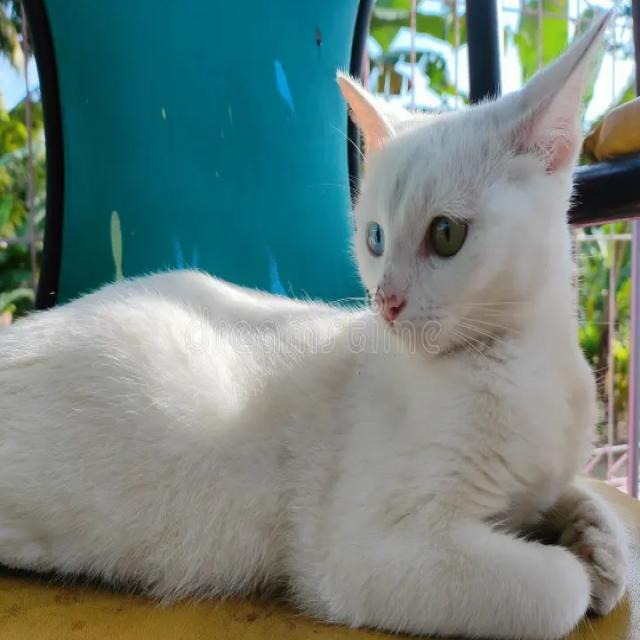Khao Manee: (0, 4, 631, 640)
